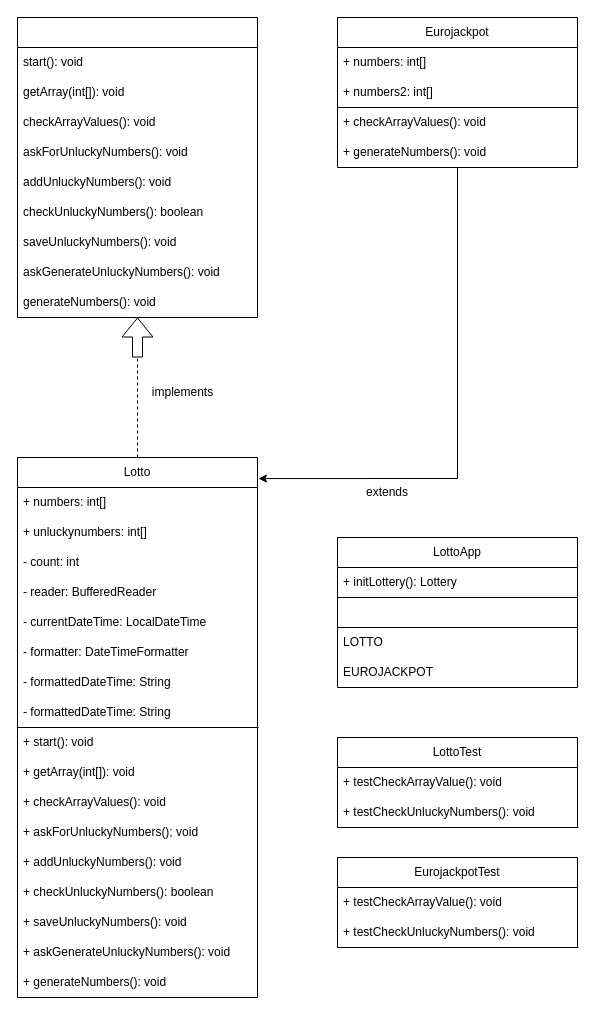
The diagram is 597 pixels wide and 1015 high, and some of its shapes have lost their labels. The box of each missing label's shape, as (x1, y1, x2, y2) in pixels:
<< Interface >> Generator: (16, 16, 258, 318)
<<enumeration>>: (336, 596, 578, 688)
